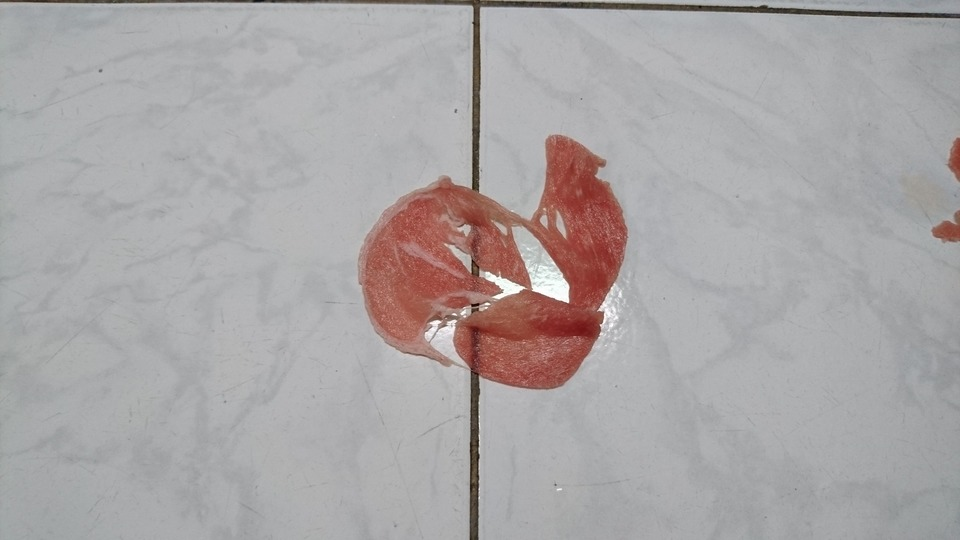restructured meat: (356, 128, 628, 395)
